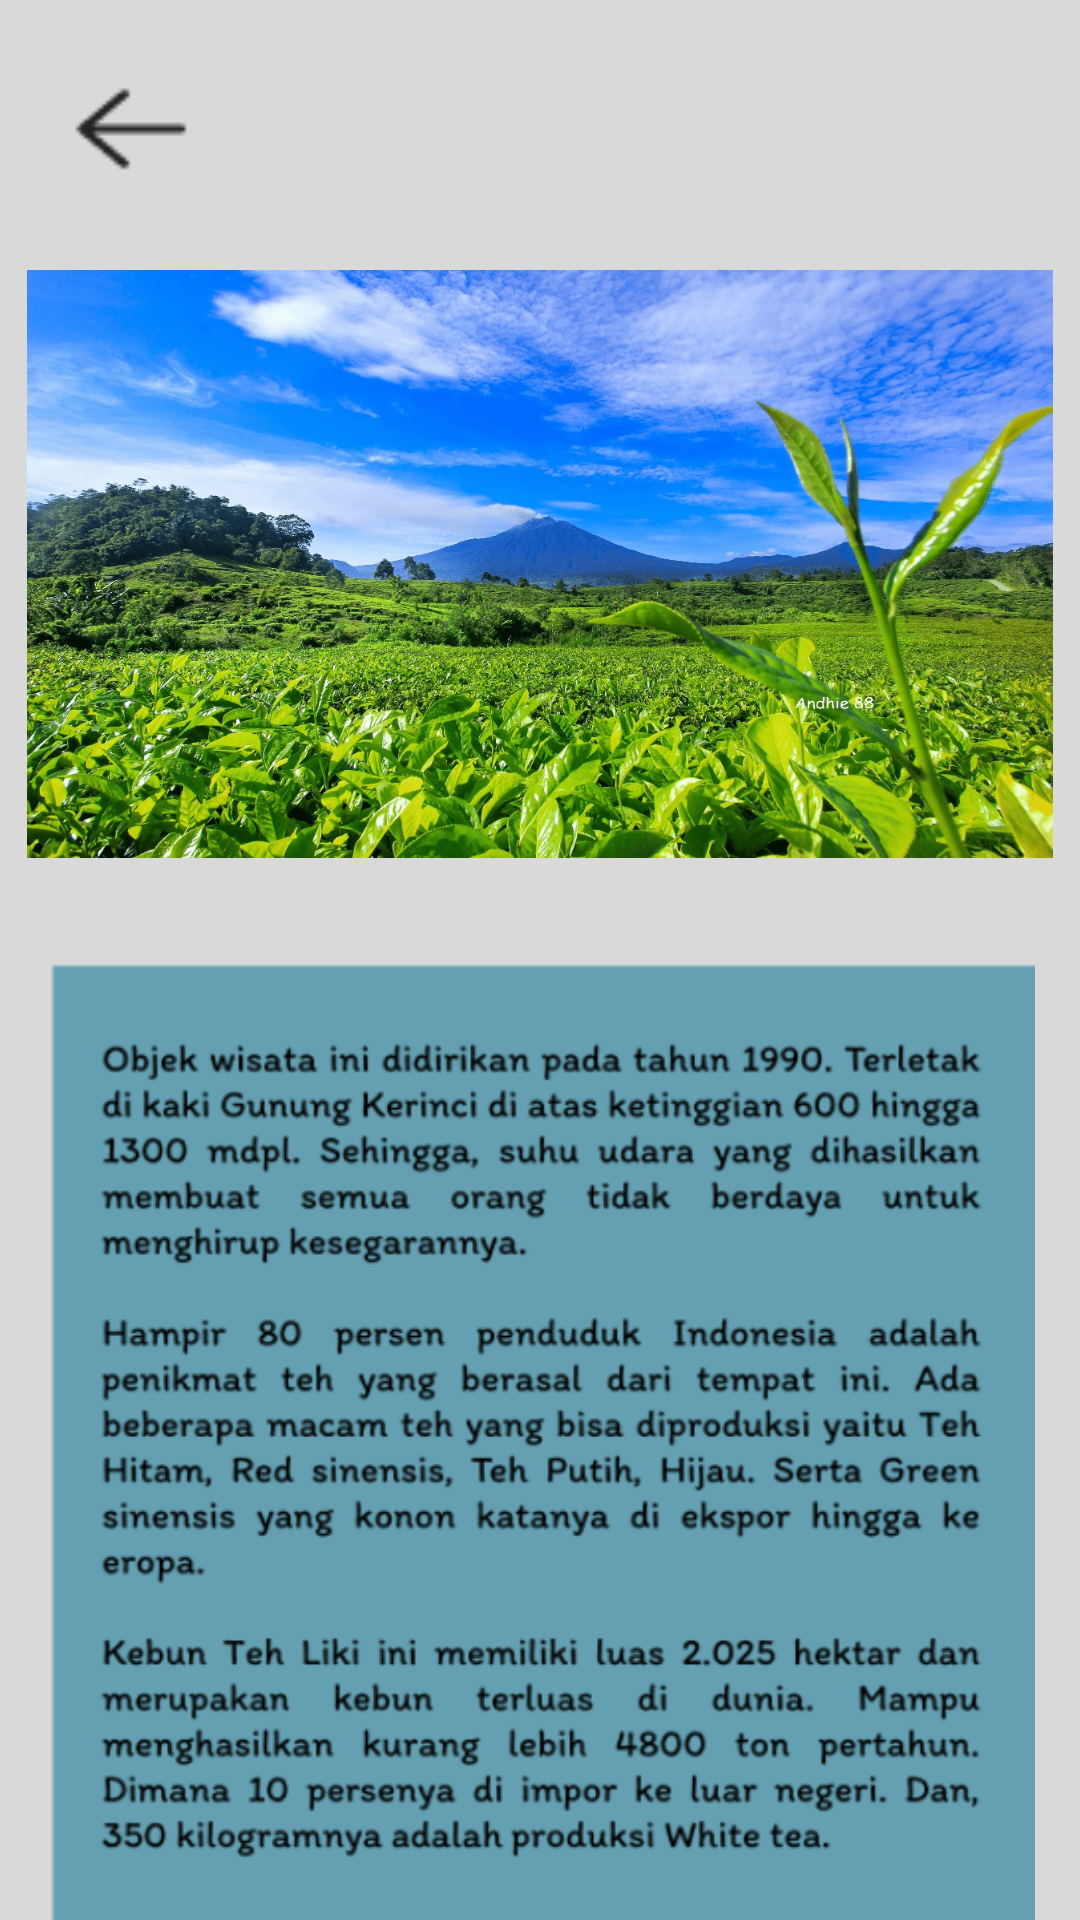

Where to tap for icons on this 1080px×1920px app screen, as point (x, y):
back: point (131, 129)
